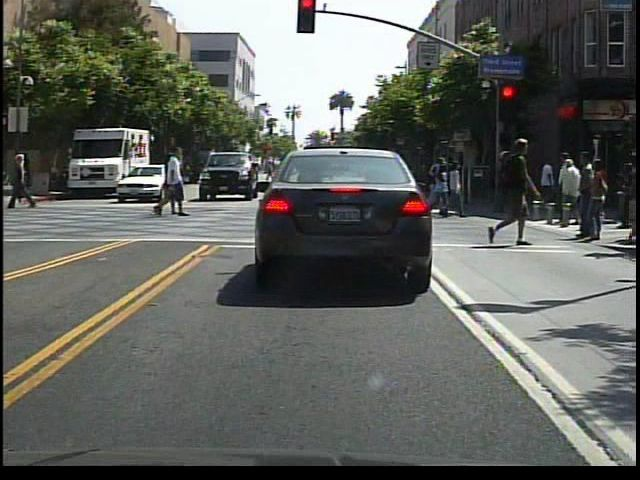person: (485, 131, 541, 253), (154, 150, 191, 226), (552, 154, 584, 231), (263, 154, 296, 214), (8, 149, 37, 215)
